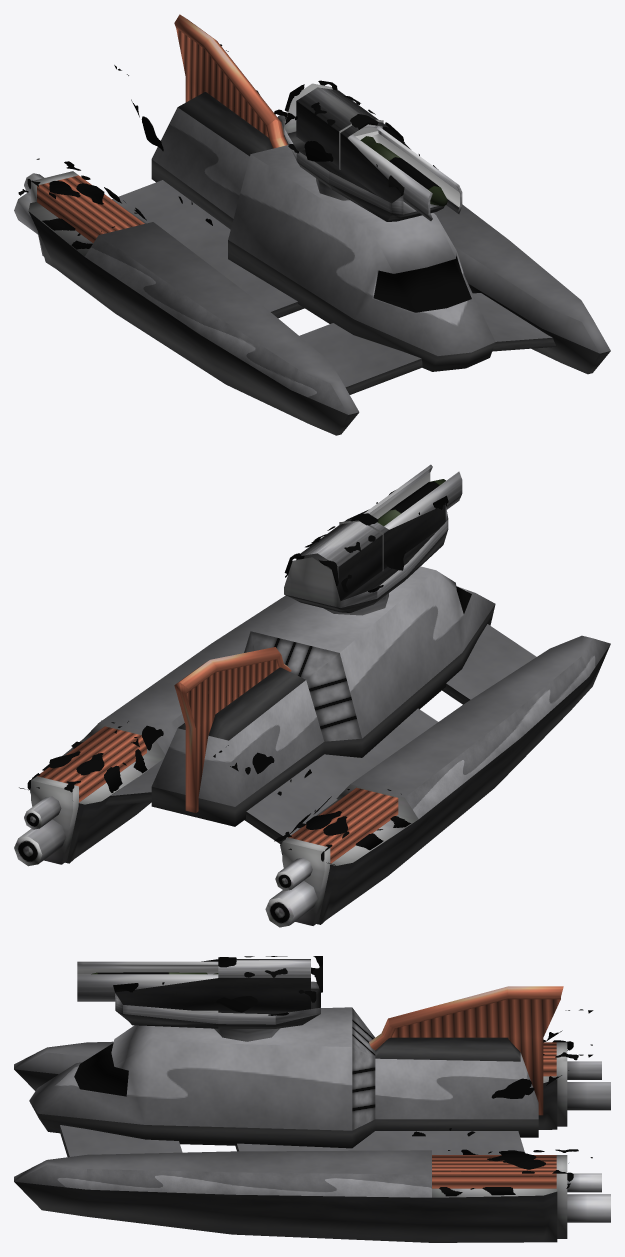
Rendered from shiptorpraider.dae.
The picture shows the model from 3 angles, top to bottom: view 1: azimuth 30°, elevation 25°; view 2: azimuth 150°, elevation 25°; view 3: azimuth 270°, elevation 25°; orthographic projection. The views are drawn at different scales.
Parts seen in each view (by area): view 1: body, skid, Plane, turretMain, Cube, turretRail, torpedo, Circle; view 2: body, skid, Plane, turretMain, Cube, Circle, turretRail, fins, torpedo; view 3: body, skid, turretMain, Plane, Cube, Circle, turretRail, fins, turretBase.
Part boxes in pixels (x1,y1,x2,y2): body: (151, 14, 495, 371); skid: (18, 109, 610, 435); Plane: (112, 180, 556, 394); turretMain: (284, 80, 444, 221); Cube: (31, 119, 285, 256); turretRail: (347, 125, 462, 220); torpedo: (360, 136, 447, 206); Circle: (14, 112, 287, 234); body: (151, 566, 495, 826); skid: (19, 595, 610, 924); Plane: (104, 624, 536, 843); turretMain: (284, 490, 448, 612); Cube: (31, 726, 398, 925); Circle: (14, 796, 317, 927); turretRail: (363, 464, 462, 529); fins: (114, 721, 311, 795); torpedo: (377, 479, 445, 525); body: (29, 986, 563, 1148); skid: (14, 1039, 592, 1242); turretMain: (113, 956, 322, 1028); Plane: (60, 1125, 524, 1157); Cube: (432, 1042, 567, 1238); Circle: (567, 1061, 610, 1222); turretRail: (77, 961, 218, 1001); fins: (412, 1009, 593, 1136); turretBase: (214, 1028, 279, 1041).
Bounding box in the file's own units: 30.68 × 51.49 × 21.33.
